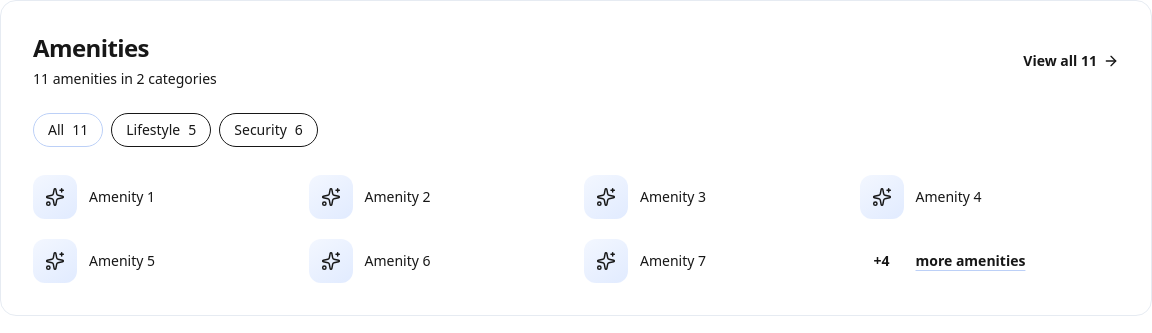
Test: AmenitiesPreview › filters the preview by category chip
The width and height of the screenshot is (1152, 333).
Expected: the text "11 amenities in 2 categories" is shown, [33,69,217,89]
Click the button "Security 6" at (269, 130), box [219,113,318,147]
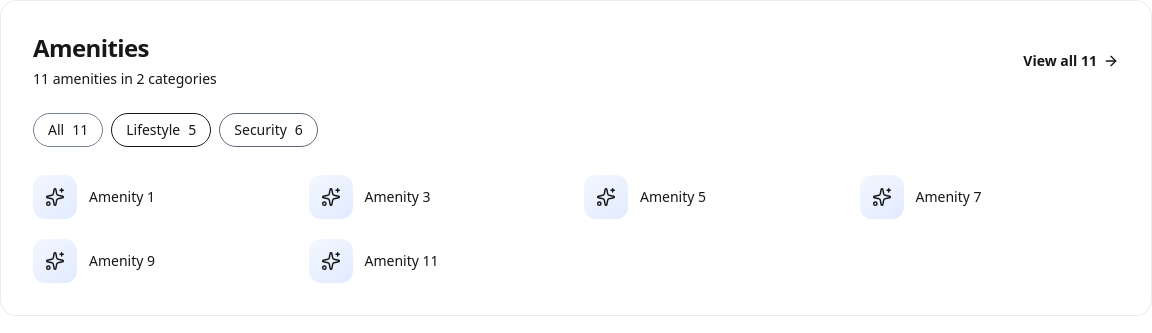
Expected: the text "Amenity 1" is shown, [89,187,155,207]
Expected: the text "Amenity 2" is gone
